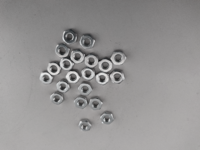nut: (80, 34, 96, 50), (63, 29, 78, 45), (111, 51, 127, 65), (85, 54, 99, 69), (111, 70, 125, 84), (99, 59, 113, 73), (82, 67, 96, 81), (56, 44, 70, 58), (71, 50, 85, 64), (57, 79, 71, 93), (40, 71, 54, 85), (100, 112, 115, 125), (89, 98, 104, 111), (78, 83, 93, 96), (66, 71, 81, 84), (96, 73, 110, 86), (74, 97, 88, 110), (60, 58, 74, 71), (48, 62, 61, 76), (51, 92, 64, 105), (79, 119, 92, 131)
